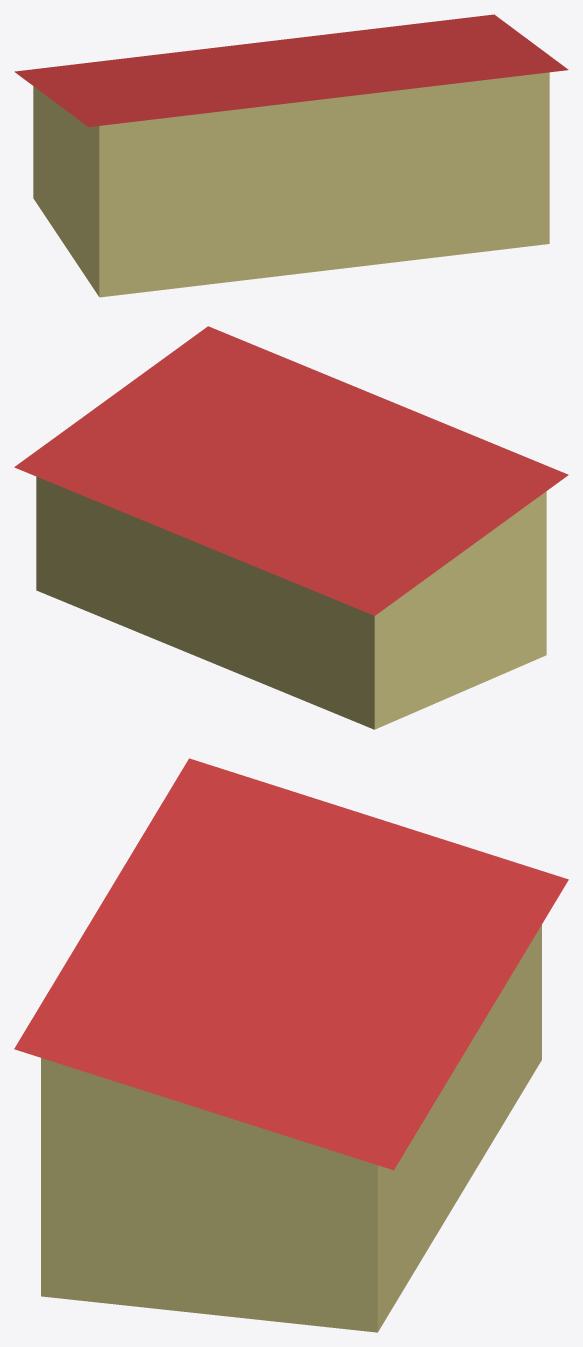
3 views of the same model, one above another, from view 1: azimuth 30°, elevation 25°; view 2: azimuth 150°, elevation 25°; view 3: azimuth 270°, elevation 25° (orthographic). The views are drawn at different scales.
Size of the model in its own units: 26.46 by 18.71 by 9.45.
